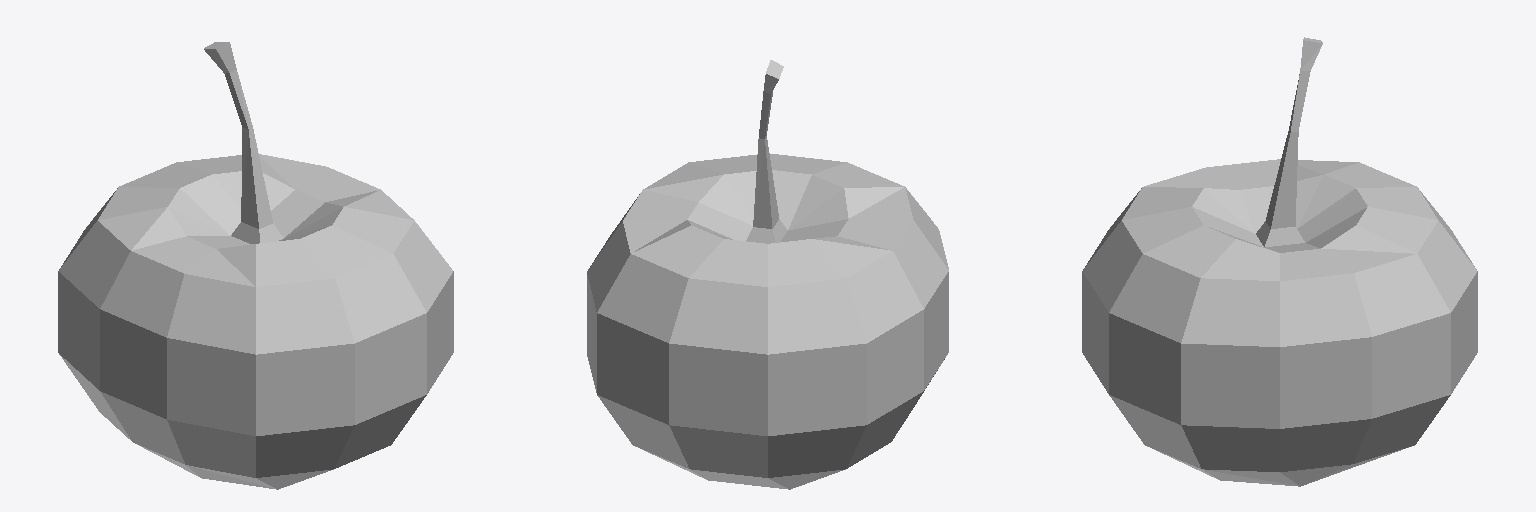
The model's file is cherry.obj.
3 renders of one model, left to right at view 1: azimuth 30°, elevation 25°; view 2: azimuth 150°, elevation 25°; view 3: azimuth 270°, elevation 25°, orthographic.
Parts seen in each view (by area): view 1: Cherry_Cherry_mesh; view 2: Cherry_Cherry_mesh; view 3: Cherry_Cherry_mesh.
Boxes of the visible parts, box(x1,y1,x2,y2) form: Cherry_Cherry_mesh: box(58, 42, 453, 489); Cherry_Cherry_mesh: box(587, 60, 948, 489); Cherry_Cherry_mesh: box(1082, 37, 1477, 486).
Size of the model in its own units: 1.78 by 2.27 by 1.95.